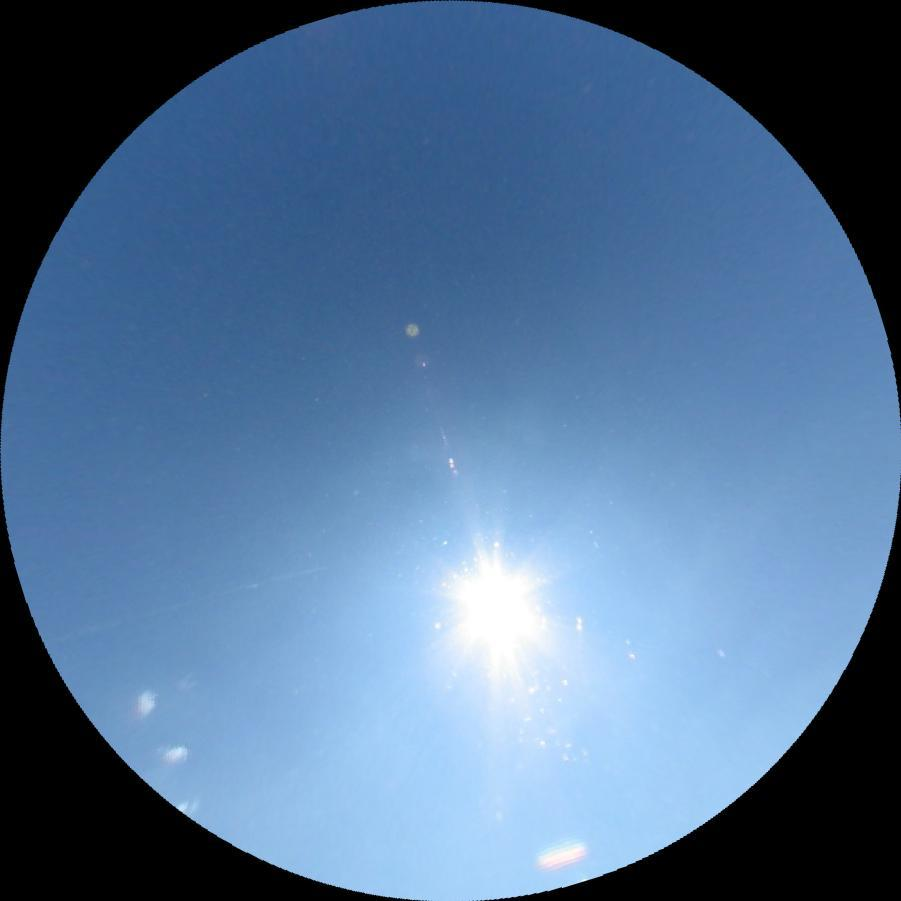sun: (429, 542, 561, 674)
